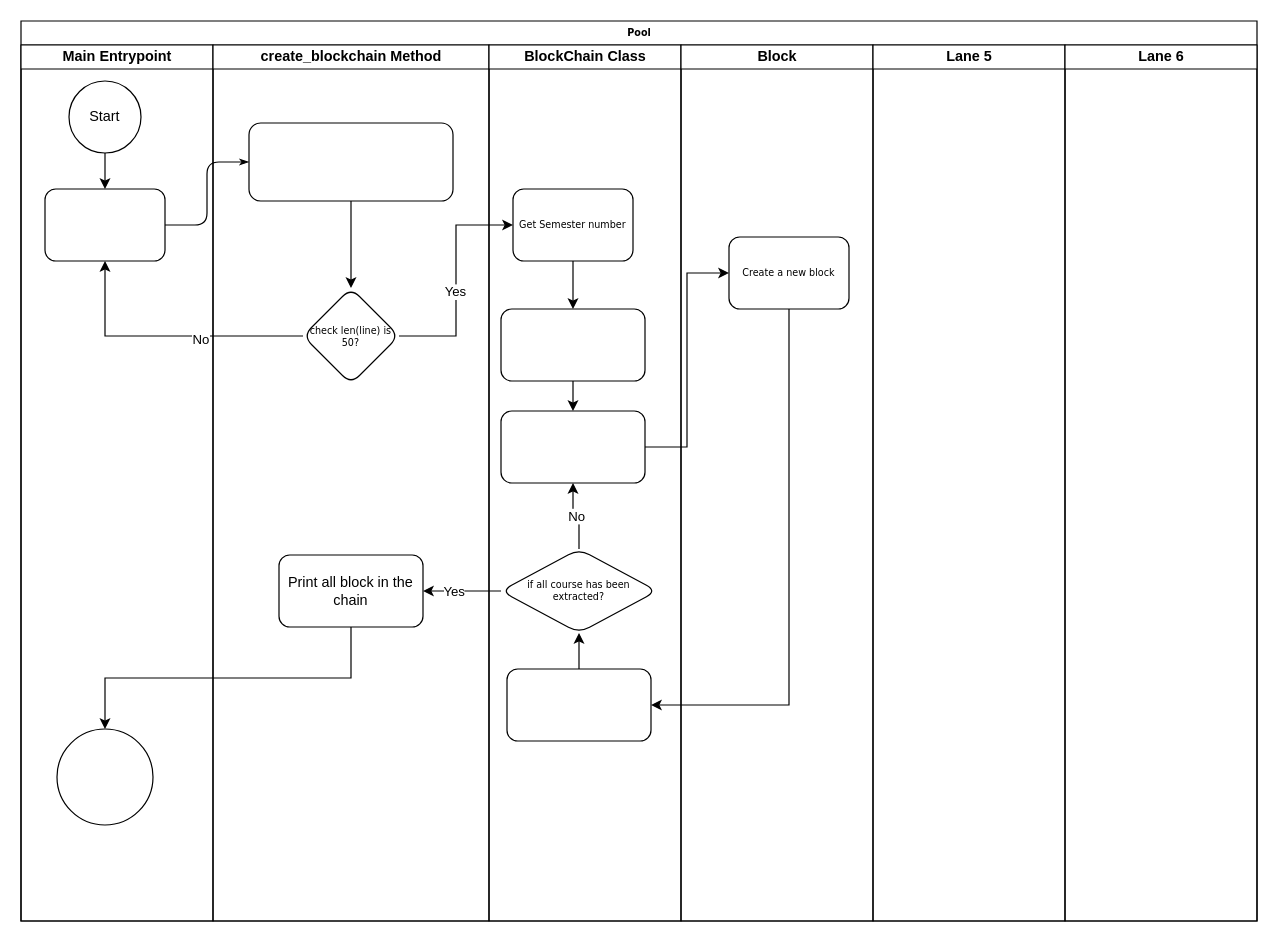
Some shapes in this 1278 by 942 pixel diagram are drawn without their labels. The centre of each missing label's shape, as x and y in pixels:
Add block object to chain: pixel 578 704
call create_blockchain(): pixel 350 161
End: pixel 104 776
extract the course code and score: pixel 572 446
Get the number of Course: pixel 572 344
Read lines from data.txt: pixel 104 224
